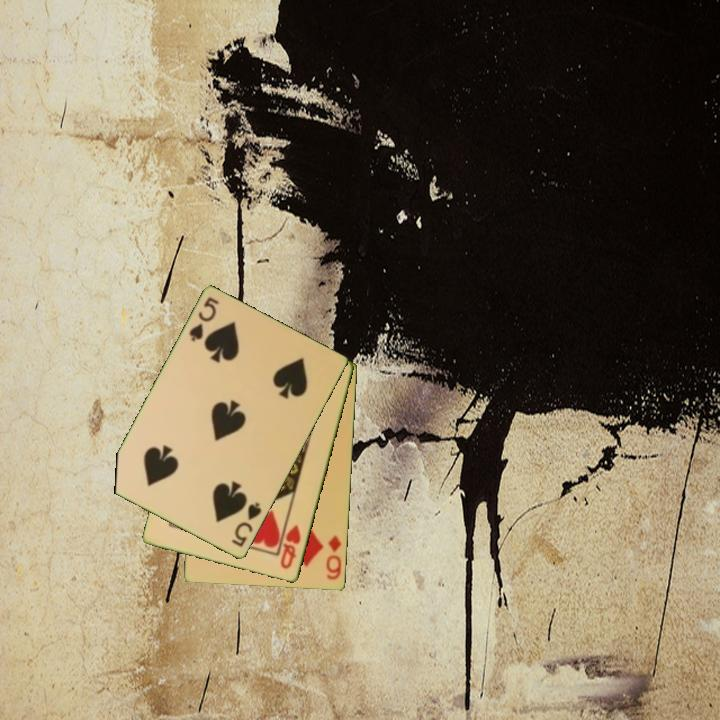5s: (228, 499, 265, 550), (186, 294, 222, 345)
6d: (323, 532, 345, 583)
Qh: (277, 522, 304, 572)
